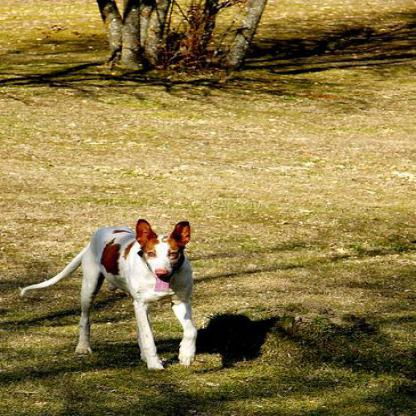dog: (37, 219, 205, 376)
